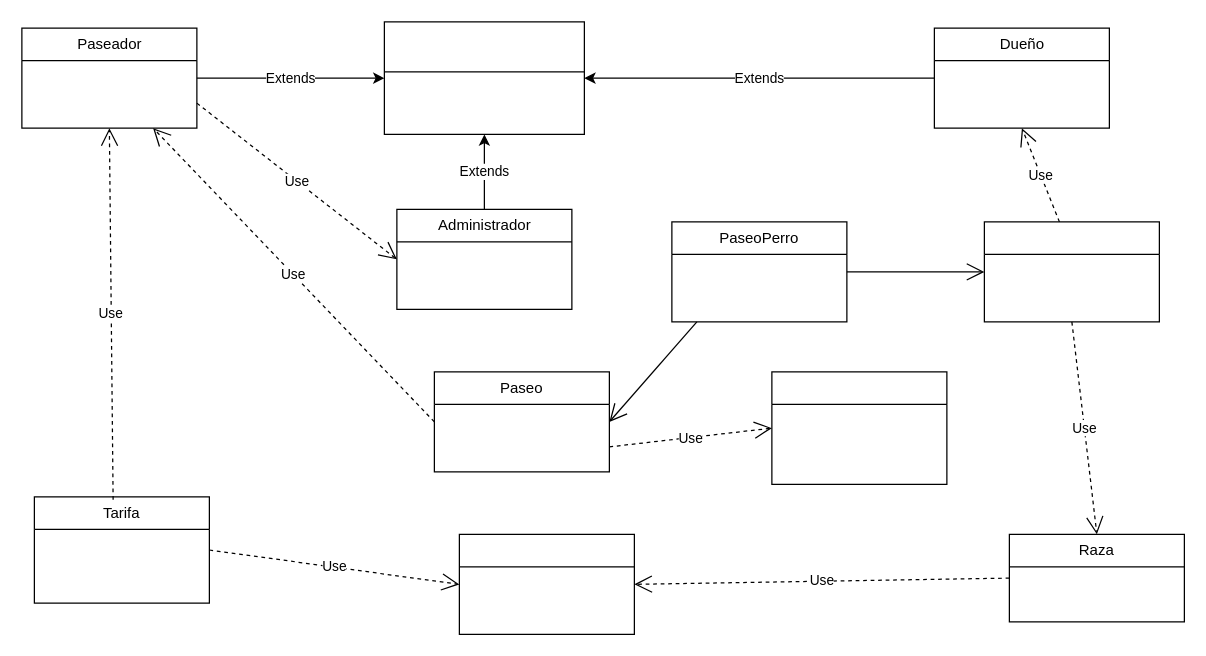
Image size: 1206x656. Some labels were removed from this diagram. Each missing label, with the centre of its shape:
"<<abstract>> Persona" belongs at point 483,77.
"EstadoPaseo" belongs at point 859,427.
"Perro" belongs at point 1071,271.
"Tamaño" belongs at point 546,583.
